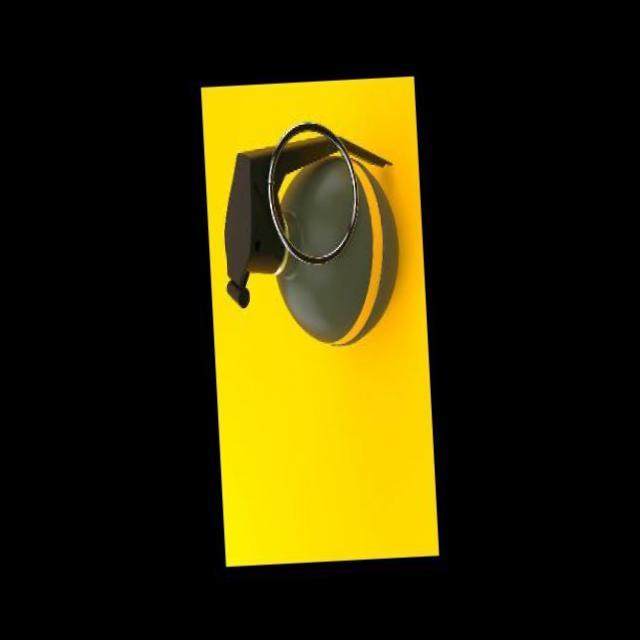grenade: (214, 108, 403, 360)
